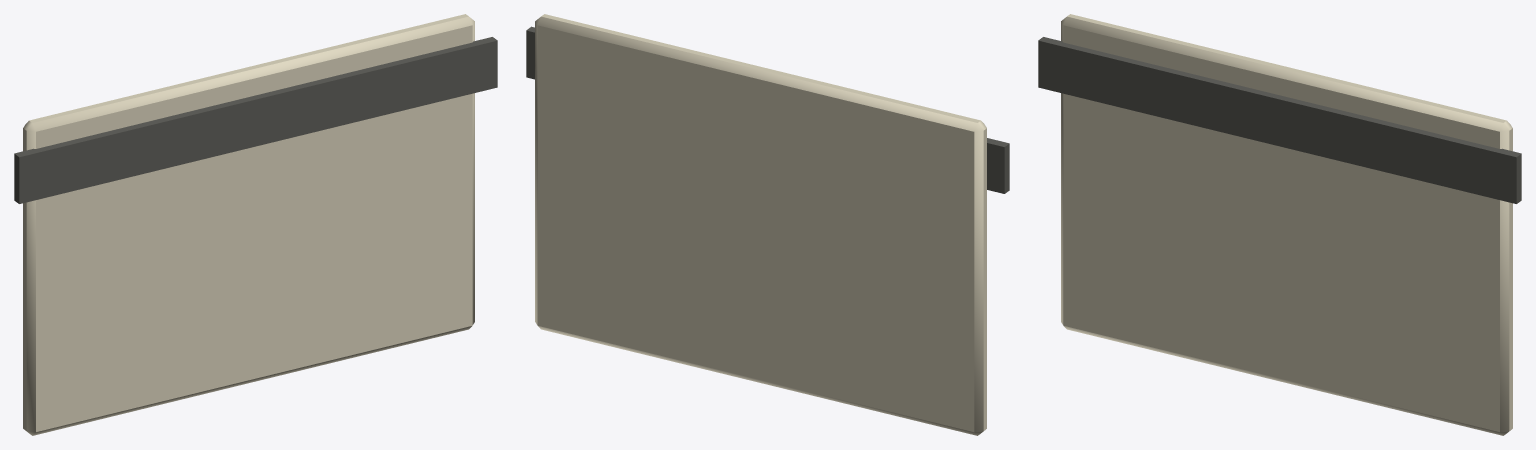
File: SM_Toalla.fbx
3 views of the same model, side by side, from view 1: azimuth 30°, elevation 25°; view 2: azimuth 150°, elevation 25°; view 3: azimuth 330°, elevation 25° (orthographic).
Parts seen in each view (by area): view 1: SM_Toalla; view 2: SM_Toalla; view 3: SM_Toalla.
Boxes of the visible parts, bbox=[...] form: SM_Toalla: bbox=[14, 14, 497, 435]; SM_Toalla: bbox=[526, 14, 1009, 435]; SM_Toalla: bbox=[1038, 14, 1521, 435].
Size of the model in its own units: 0.32 by 0.2 by 0.017.
